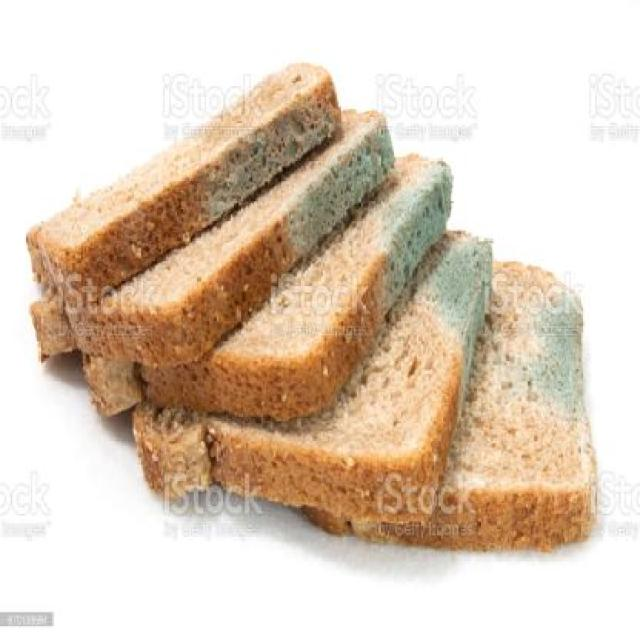mold_bread: (200, 99, 342, 201), (531, 286, 593, 415), (441, 228, 492, 372), (283, 173, 356, 236), (409, 157, 463, 238), (374, 206, 419, 293), (344, 122, 401, 186)
